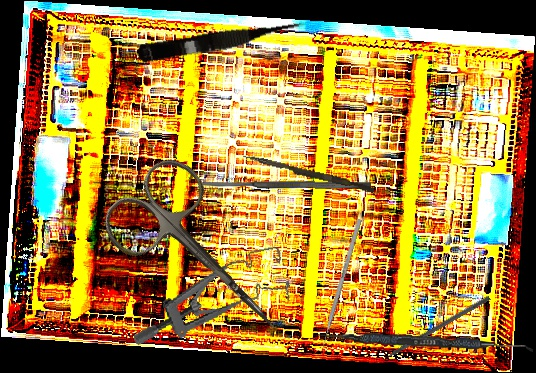Hook Surgical: (373, 294, 491, 366)
Iris Scissors: (93, 147, 313, 368)
Micro Scissor: (137, 15, 309, 68)
Pusher: (318, 218, 362, 357), (241, 153, 376, 194)
Spatula Surgical: (317, 331, 534, 352), (200, 178, 372, 191)
Speculum: (121, 243, 296, 349)
